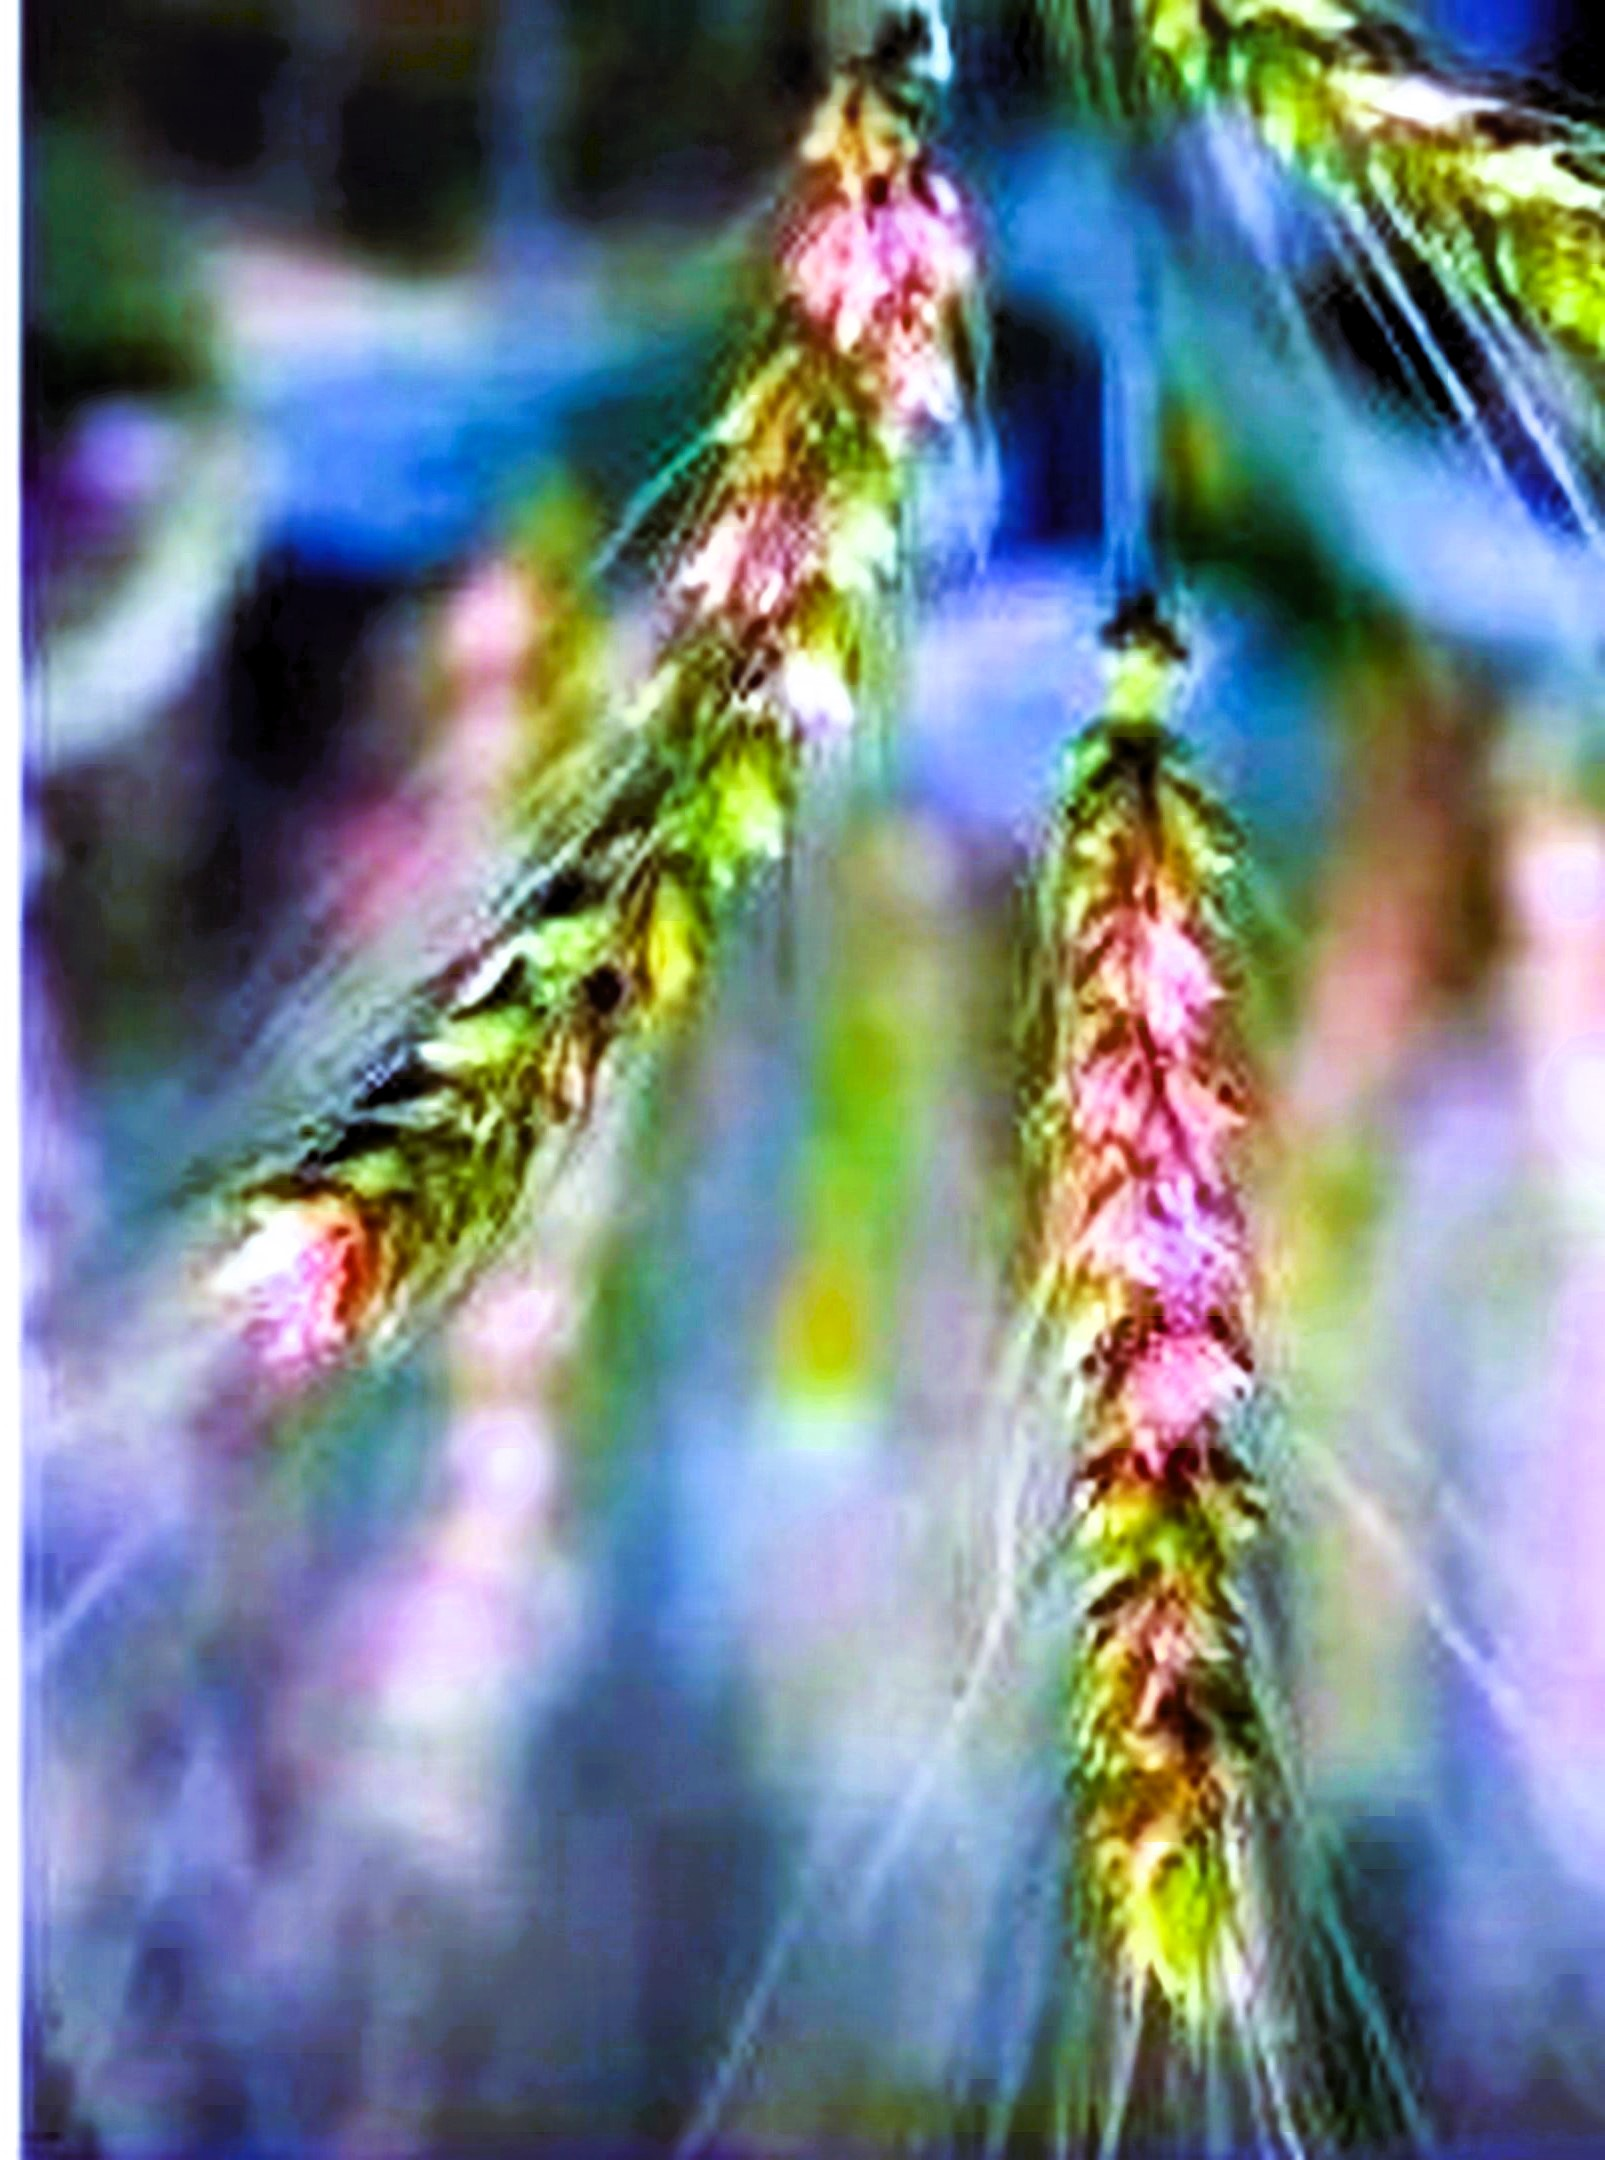Wheat scab: (1017, 703, 1327, 2035)
